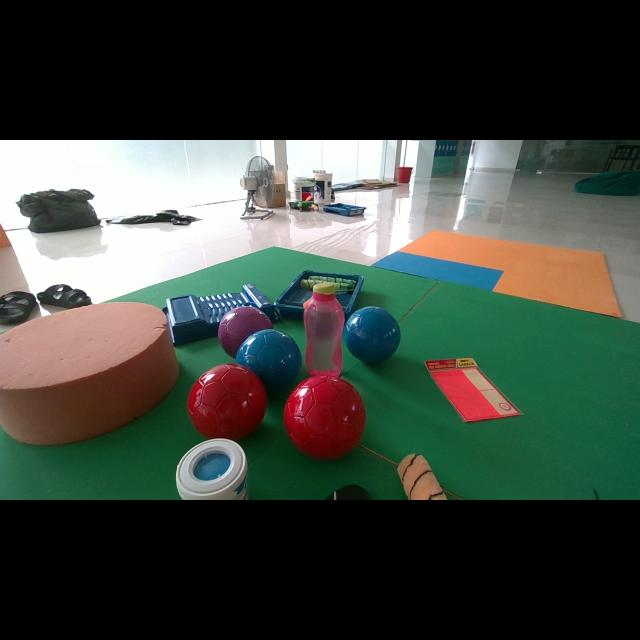B: (236, 329, 301, 392), (344, 306, 400, 363)
P: (218, 306, 272, 358)
R: (284, 375, 365, 459), (188, 364, 266, 439)
